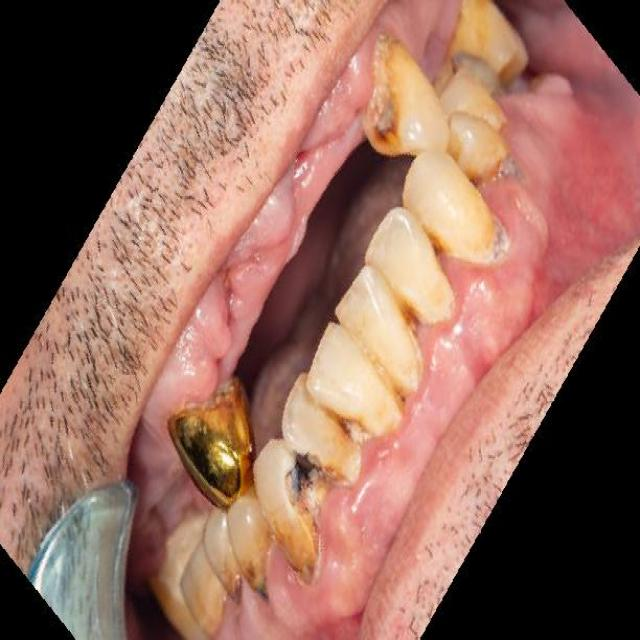caries: (278, 443, 331, 544), (480, 138, 530, 193), (370, 96, 412, 160), (242, 546, 276, 605), (219, 558, 248, 614)
